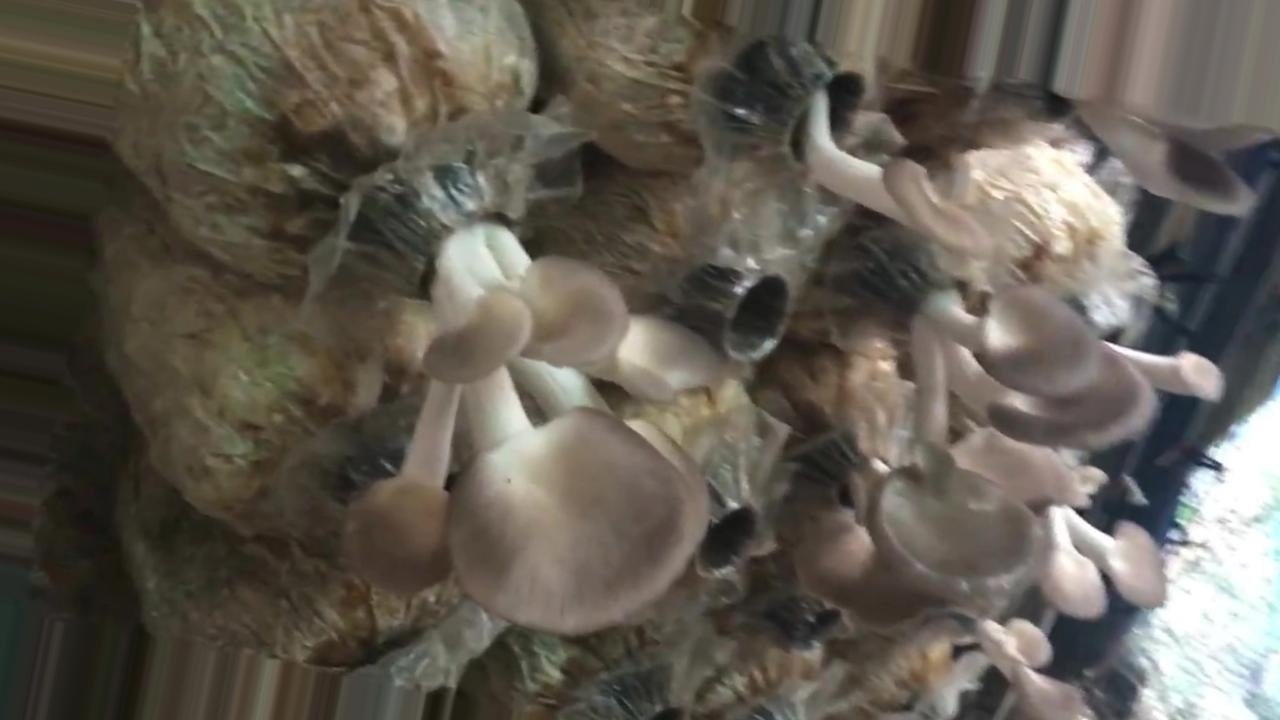nam: (359, 174, 717, 637), (866, 250, 1224, 598), (755, 43, 989, 255), (1034, 464, 1167, 617), (793, 518, 921, 625)
